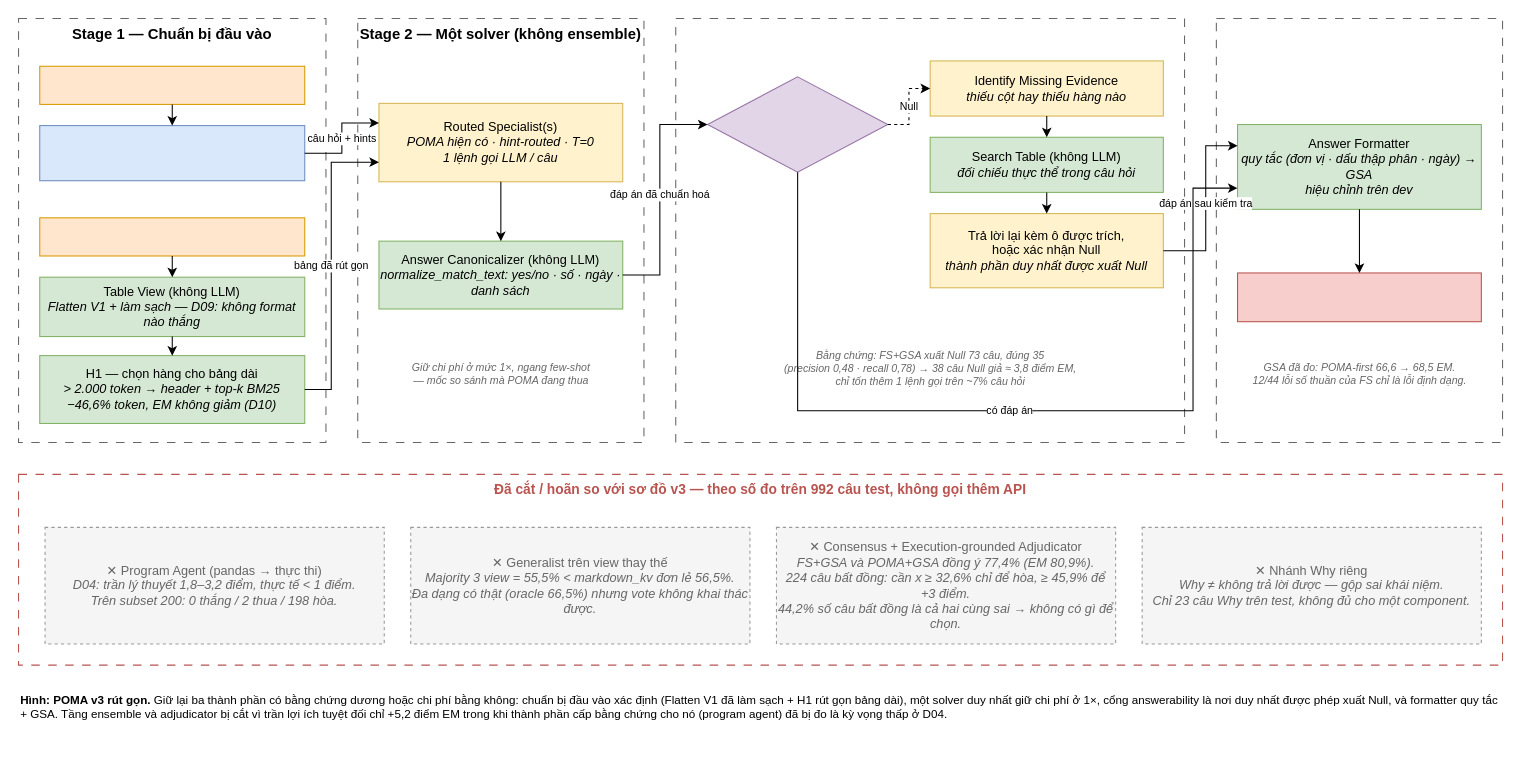
The diagram is 1521 pixels wide and 779 high, and some of its shapes have lost their labels. Here are the shapes that lost their labels. From the top down, the box of each, then its label:
(39, 65, 305, 104): Câu hỏi
(706, 76, 888, 172): Đáp án = Null? không LLM
(39, 125, 305, 181): Question Analyzer hints · loại câu hỏi · kiểu đáp án
(39, 217, 305, 256): Bảng (HTML)
(675, 17, 1185, 443): Stage 3 — Cổng answerability
(1215, 17, 1503, 443): Stage 4 — Đầu ra
(1236, 272, 1481, 322): Đáp án cuối (1 chuỗi)
